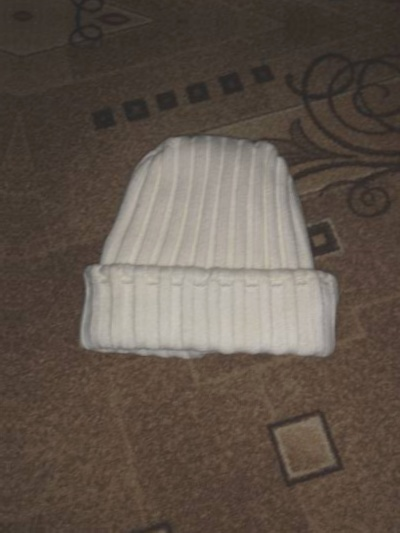Hat: (70, 112, 381, 398)
